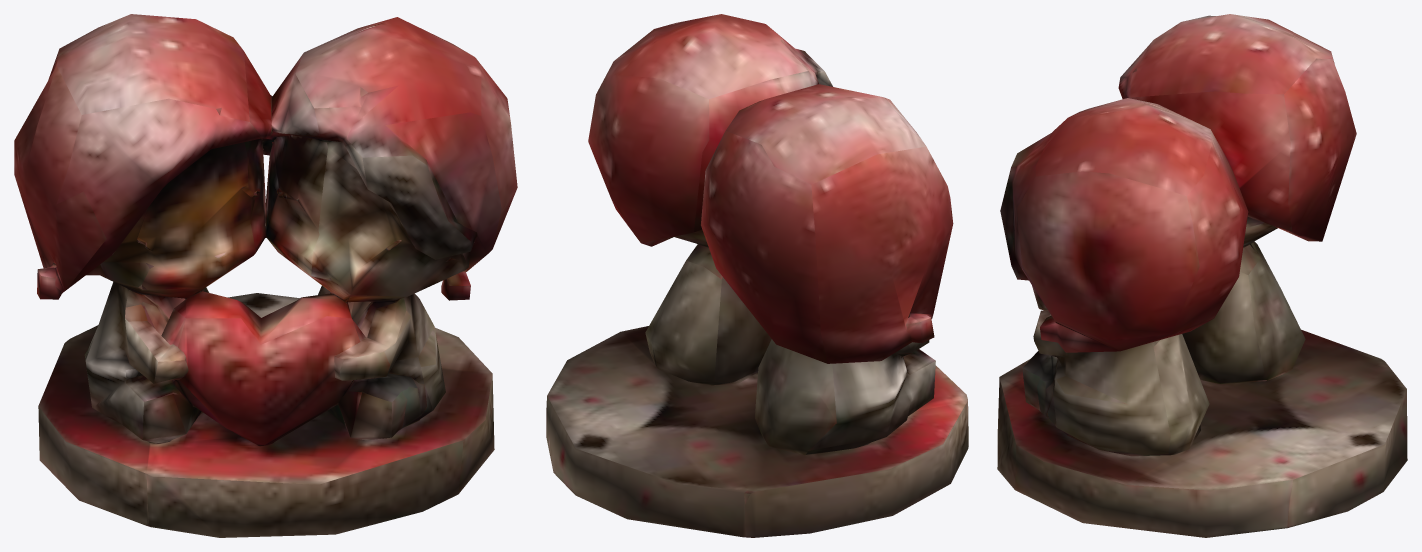
The model's file is Couple2.glb.
The picture shows the model from 3 angles, left to right: view 1: azimuth 30°, elevation 25°; view 2: azimuth 150°, elevation 25°; view 3: azimuth 270°, elevation 25°; orthographic projection. The views are drawn at different scales.
Parts seen in each view (by area): view 1: 3d66-Editable_Poly-22874137-001; view 2: 3d66-Editable_Poly-22874137-001; view 3: 3d66-Editable_Poly-22874137-001.
Boxes of the visible parts, box(x1,y1,x2,y2) form: 3d66-Editable_Poly-22874137-001: box(14, 14, 517, 537); 3d66-Editable_Poly-22874137-001: box(546, 14, 968, 537); 3d66-Editable_Poly-22874137-001: box(997, 14, 1407, 537).
Size of the model in its own units: 0.943 by 0.9138 by 0.8866.
Materials: 1 (1 with a texture image).
